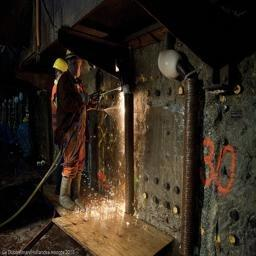boots: (57, 175, 88, 212)
hat: (53, 57, 68, 72), (63, 48, 79, 59)
no vest: (58, 80, 86, 131)
vest: (50, 84, 60, 133)
